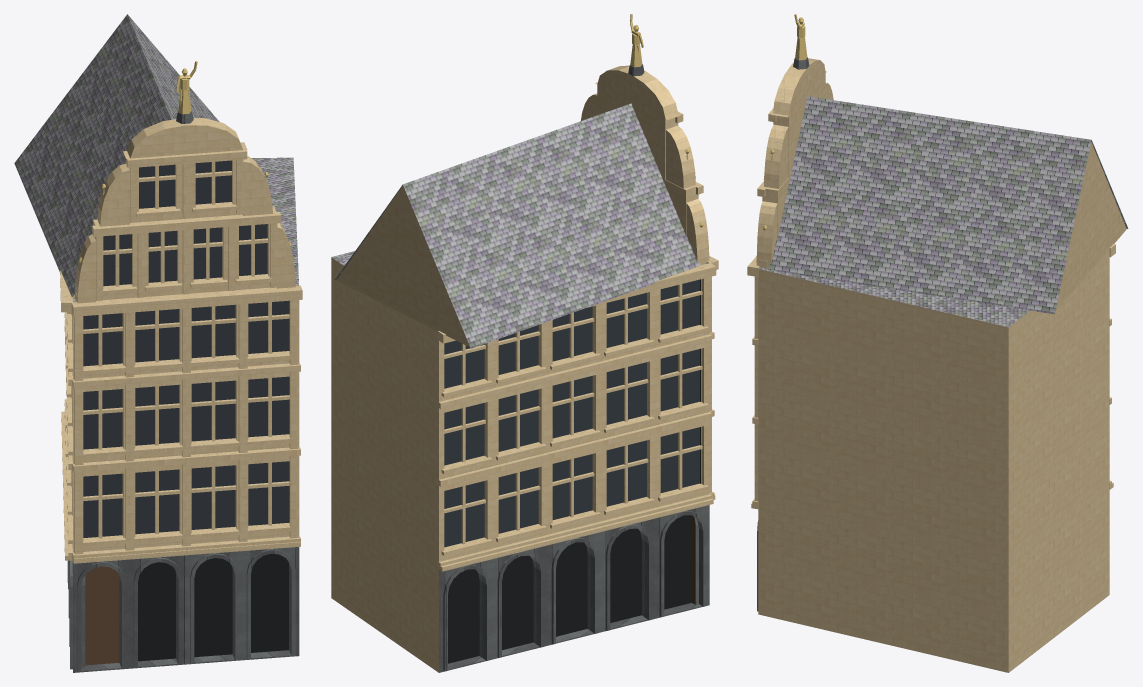
The picture shows the model from 3 angles, left to right: view 1: azimuth 30°, elevation 25°; view 2: azimuth 150°, elevation 25°; view 3: azimuth 270°, elevation 25°; orthographic projection. The views are drawn at different scales.
Parts seen in each view (by area): view 1: bldg_496929353_landmark; view 2: bldg_496929353_landmark; view 3: bldg_496929353_landmark.
Part boxes in pixels (left/top/right/bottom): bldg_496929353_landmark: left=14, top=14, right=302, bottom=672; bldg_496929353_landmark: left=331, top=14, right=718, bottom=672; bldg_496929353_landmark: left=747, top=14, right=1128, bottom=672.
Size of the model in its own units: 13.34 by 23.58 by 14.49.
Materials: 7 (3 with a texture image).
